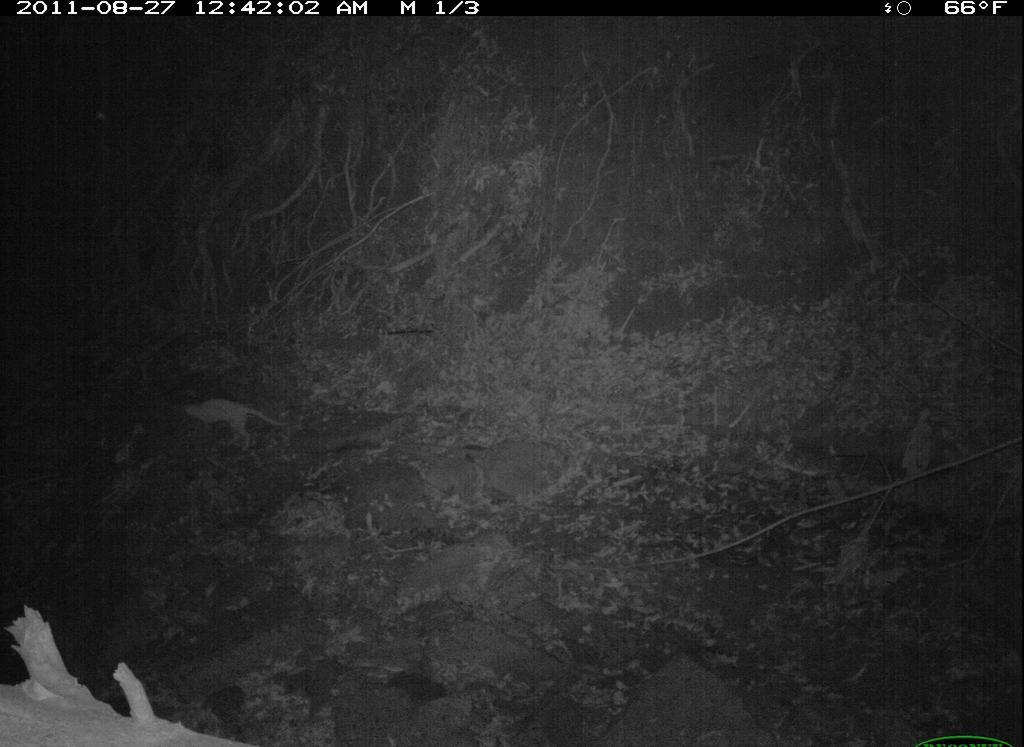cat: (181, 391, 274, 464)
